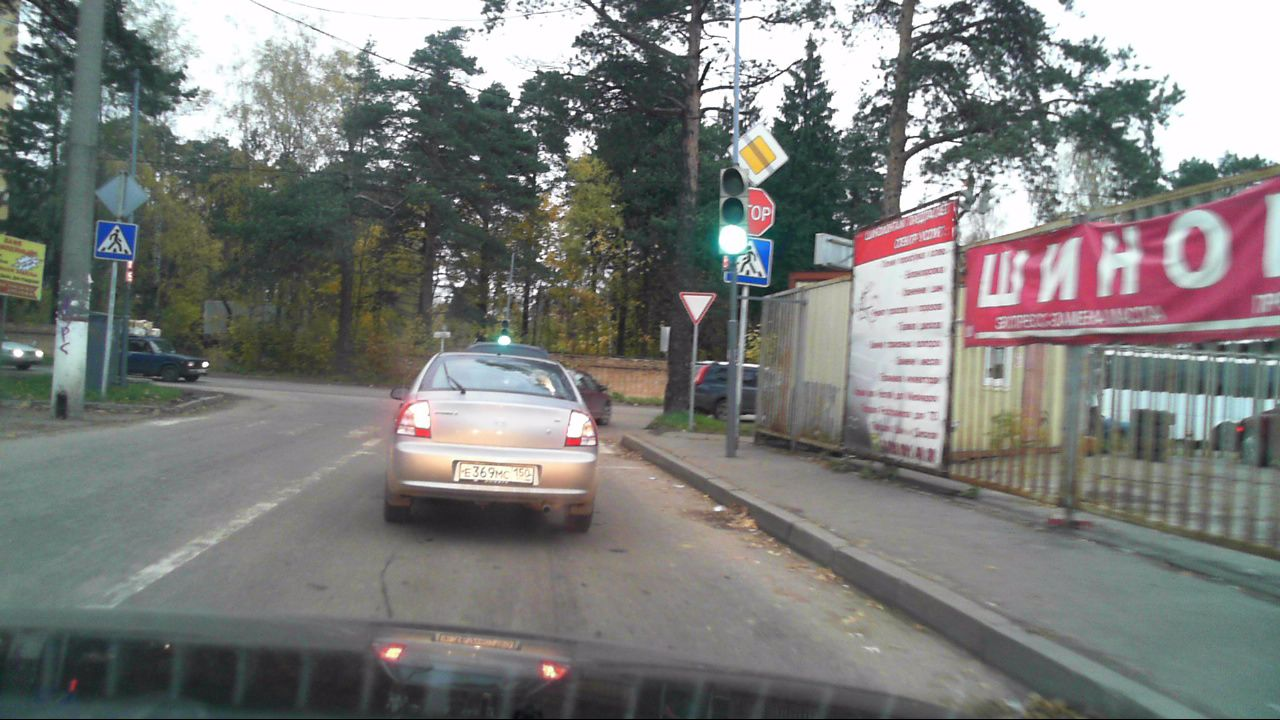main road: (727, 125, 788, 187)
